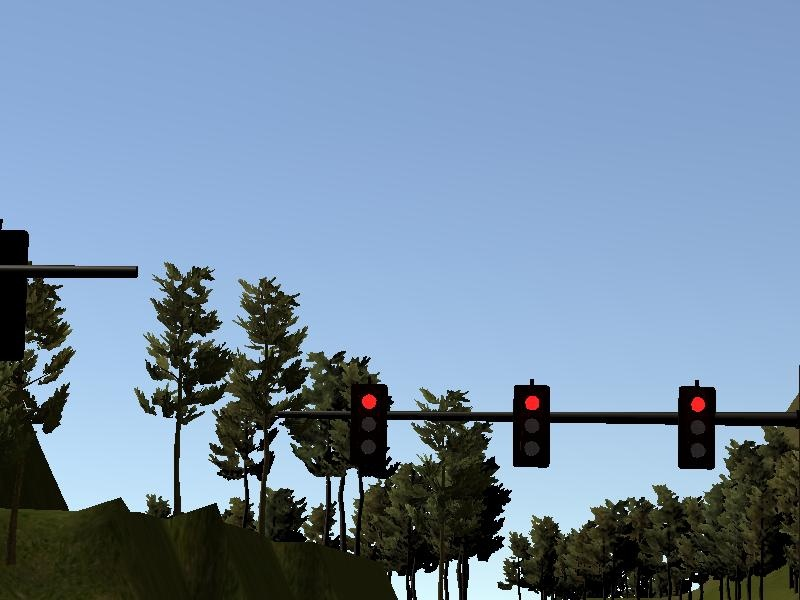red: (675, 381, 720, 473), (510, 379, 553, 471), (348, 377, 390, 468)
